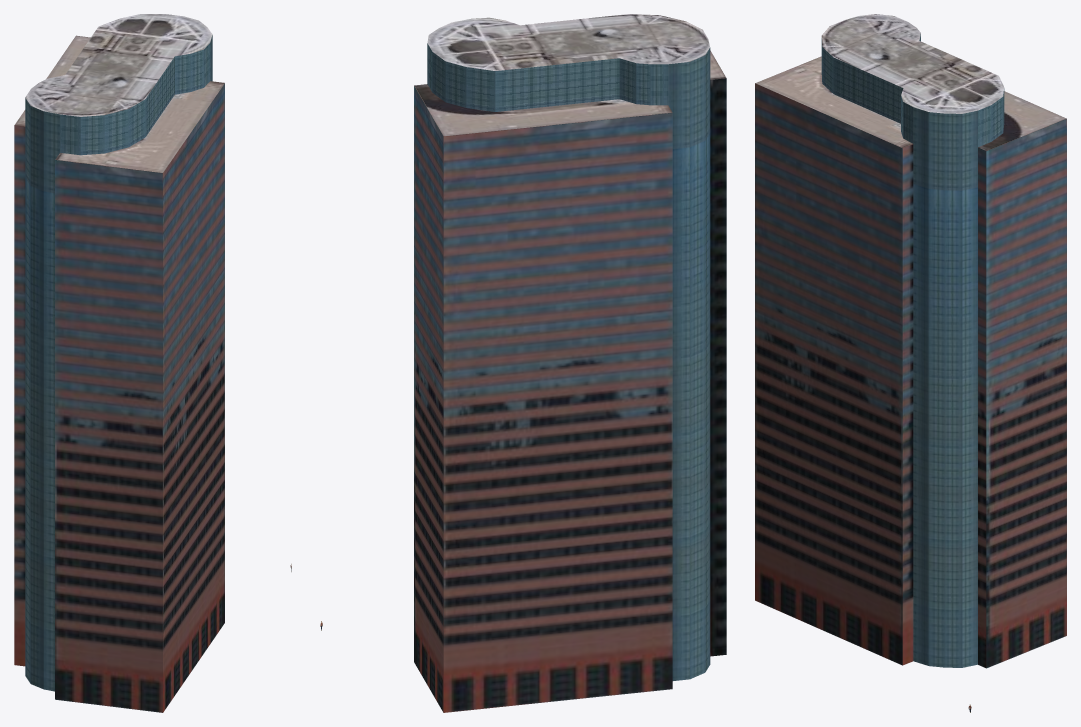
File: National-Westminster-Bank.fbx
3 views of the same model, side by side, from view 1: azimuth 30°, elevation 25°; view 2: azimuth 150°, elevation 25°; view 3: azimuth 270°, elevation 25° (orthographic). The views are drawn at different scales.
Visible parts, largest first — view 1: Model; view 2: Model; view 3: Model.
Boxes of the visible parts, bbox=[...] form: Model: bbox=[14, 14, 224, 712]; Model: bbox=[414, 14, 726, 712]; Model: bbox=[755, 14, 1066, 668].
Size of what is drawn, in the model's own units: 67.34 by 120 by 61.15.
